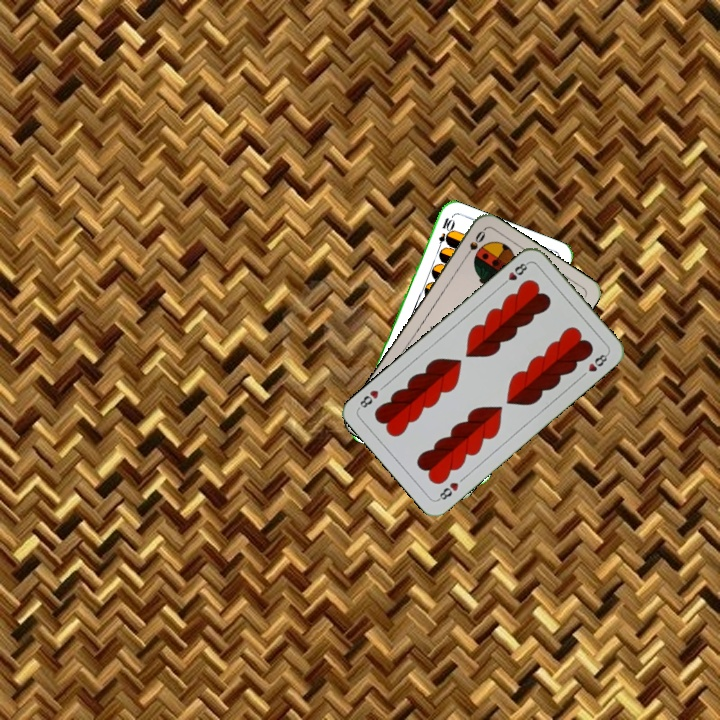E10: (433, 213, 456, 254)
H8: (498, 258, 531, 289), (433, 478, 461, 503)
SO: (459, 226, 488, 262)
